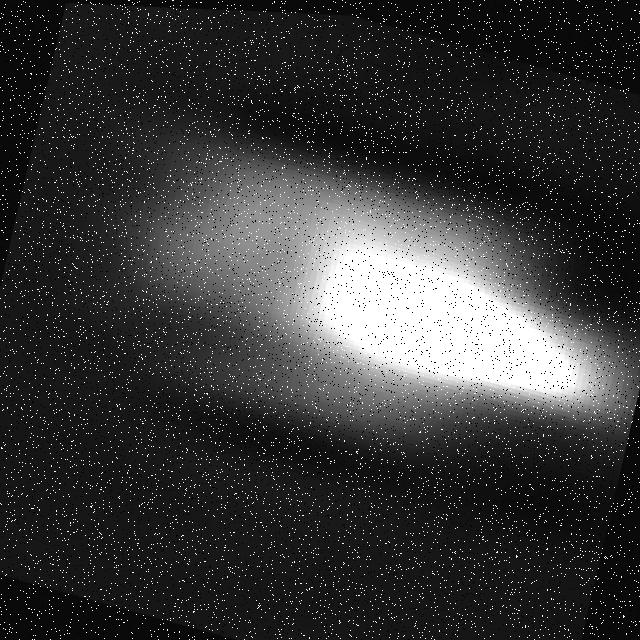person: (67, 103, 640, 502)
